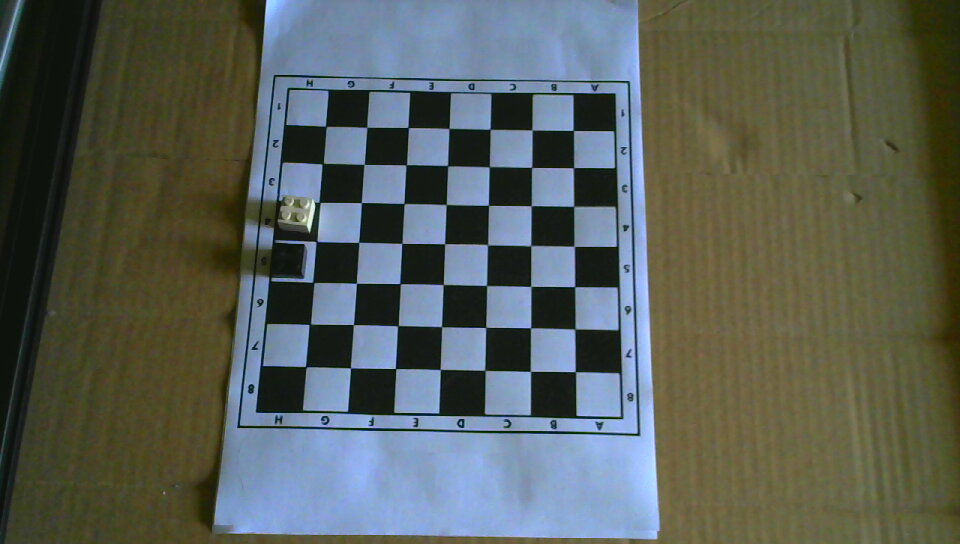bp: (270, 241, 307, 281)
wp: (277, 192, 315, 233)
